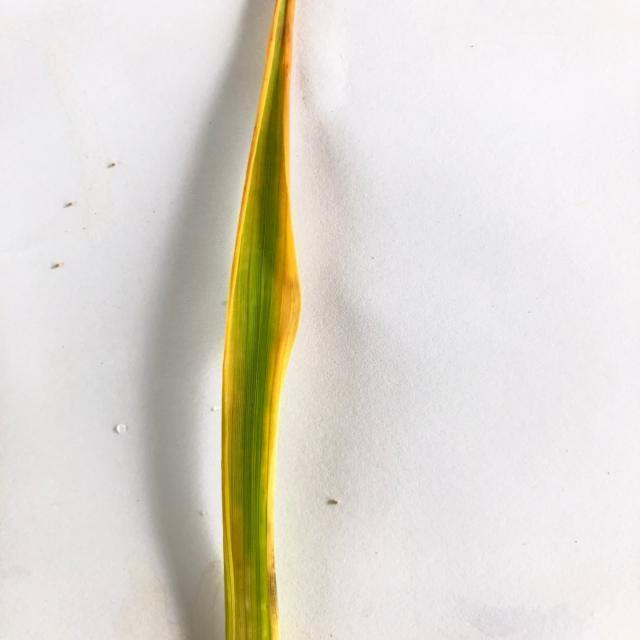Rice Tungro: (277, 125, 303, 344), (258, 1, 297, 120)
